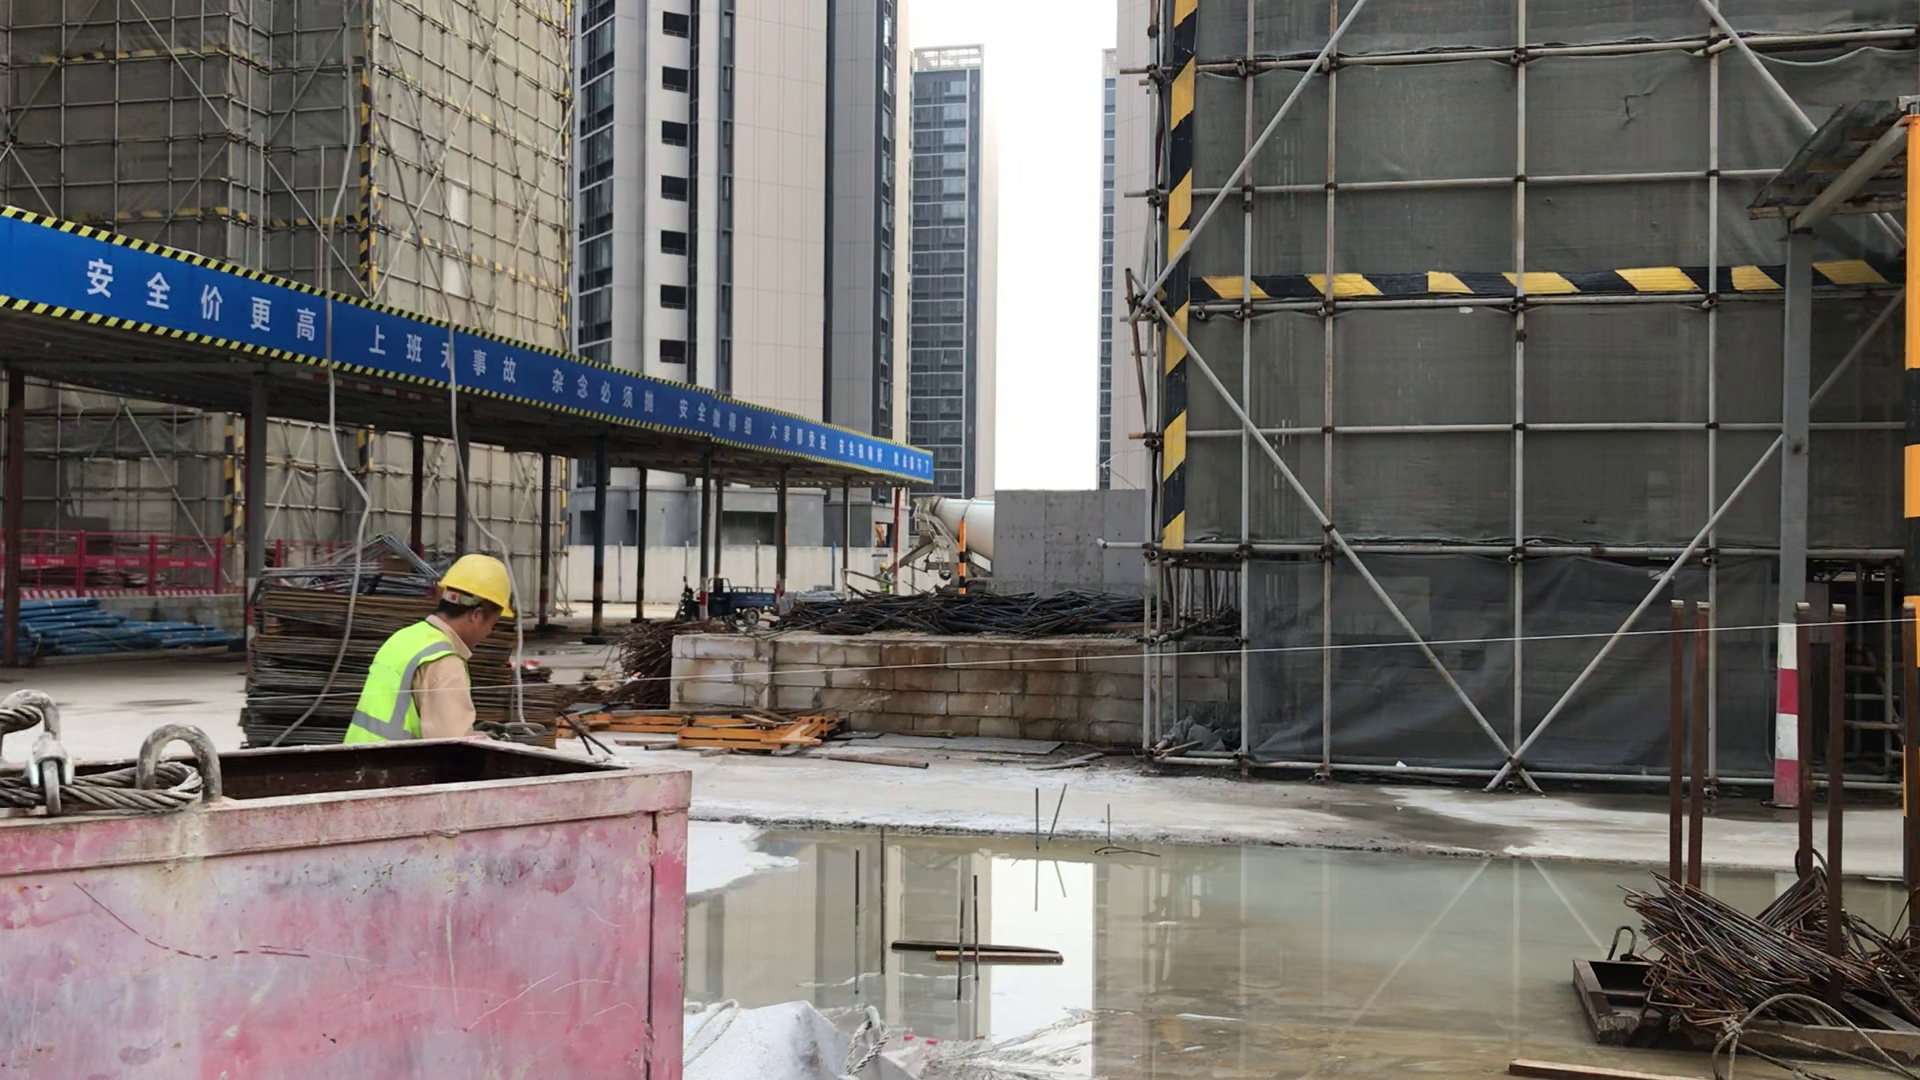helmet: (441, 542, 527, 609)
person: (341, 534, 507, 750)
slogan: (69, 228, 698, 417)
vest: (355, 623, 468, 750)
